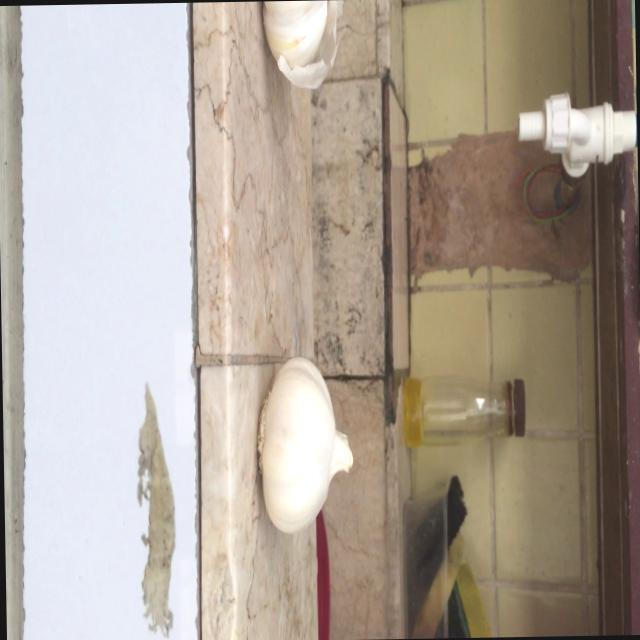bawang: (251, 353, 354, 538)
